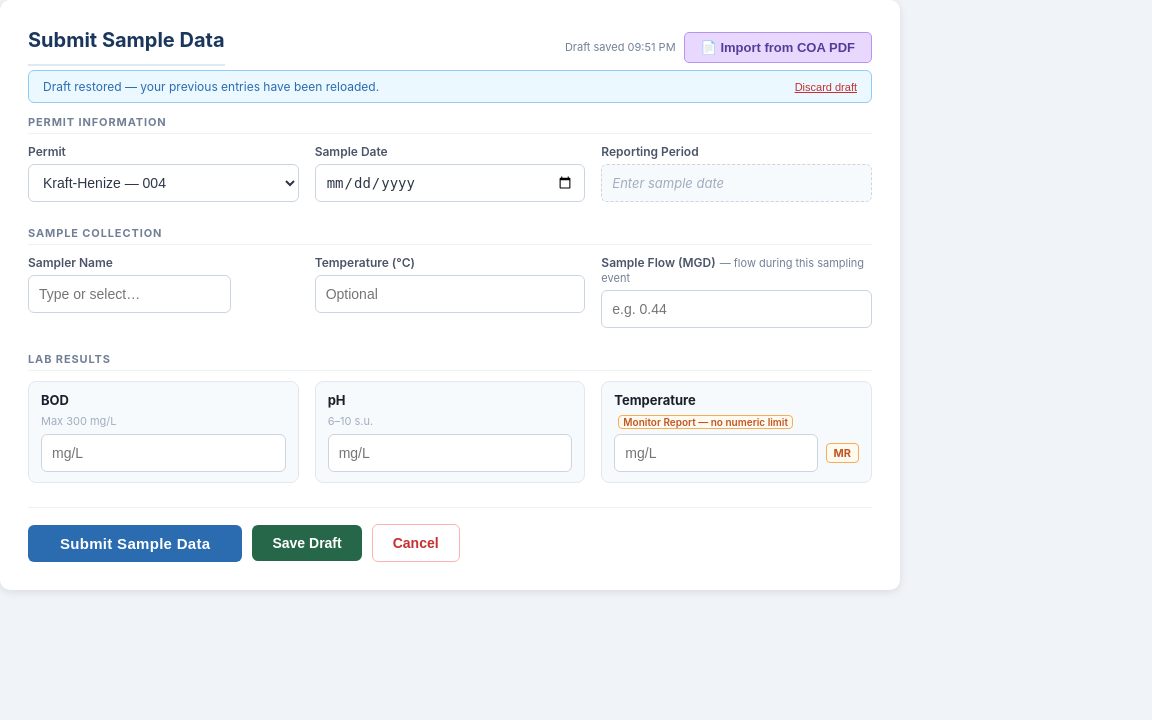
Test: SampleForm — reporting period › computes period label and day count from sample date
Check: the text "Sample Date" is shown, box top-left (315, 144), bottom-right (388, 159)
Type "2026-05-15" into the date field at (450, 183), box top-left (315, 164), bottom-right (585, 202)
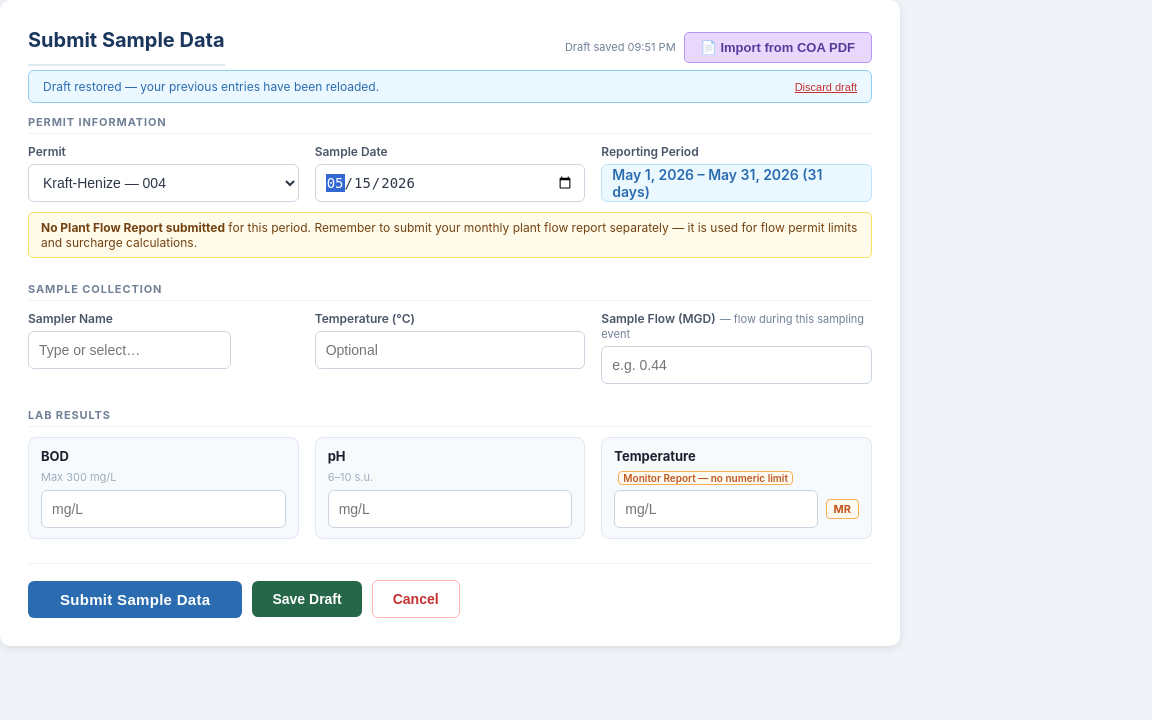
Check: the text "May 1, 2026 – May 31, 2026 (31 days)" is shown, box top-left (601, 164), bottom-right (872, 202)
